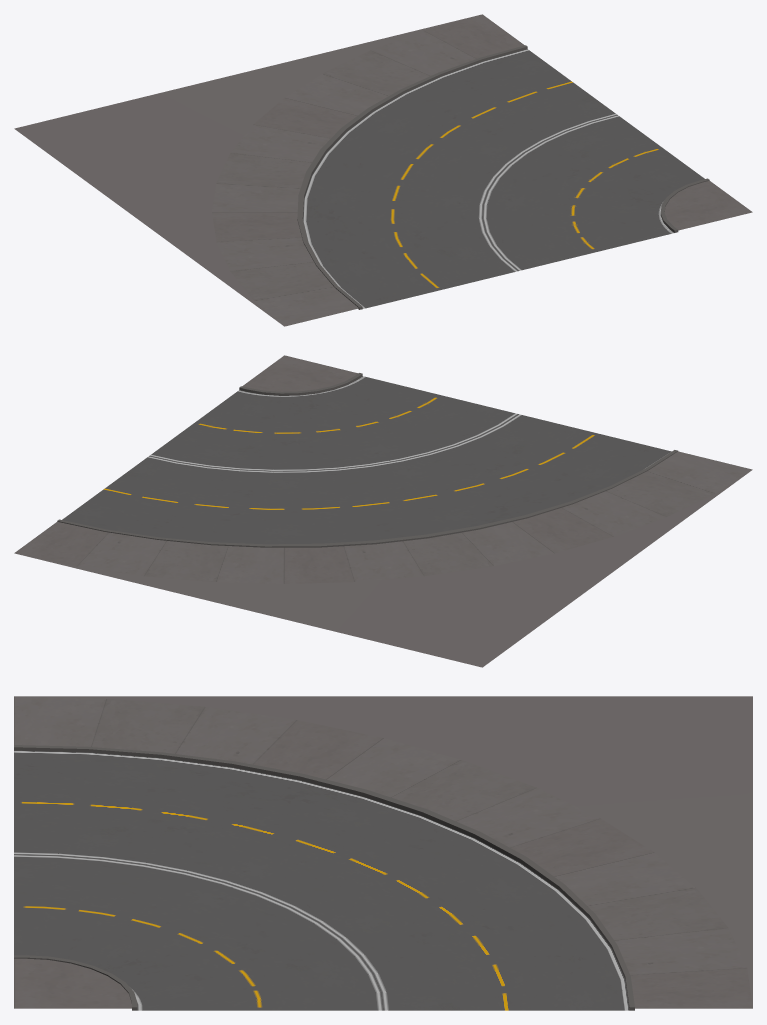
Rendered from SM_Floor_Road_19.fbx.
3 renders of one model, top to bottom at view 1: azimuth 30°, elevation 25°; view 2: azimuth 150°, elevation 25°; view 3: azimuth 270°, elevation 25°, orthographic. The views are drawn at different scales.
Visible parts, largest first — view 1: SM_Floor_Road_19; view 2: SM_Floor_Road_19; view 3: SM_Floor_Road_19.
Part boxes in pixels (x1,y1,x2,y2): SM_Floor_Road_19: (14, 14, 752, 326); SM_Floor_Road_19: (14, 355, 752, 667); SM_Floor_Road_19: (14, 696, 752, 1010).
Bounding box in the file's own units: 15 × 0.1125 × 15.
